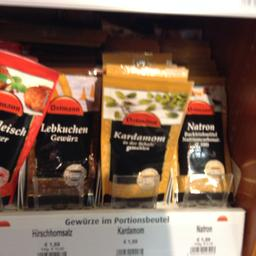spices: (100, 62, 190, 202), (30, 71, 95, 201), (178, 74, 231, 196)
